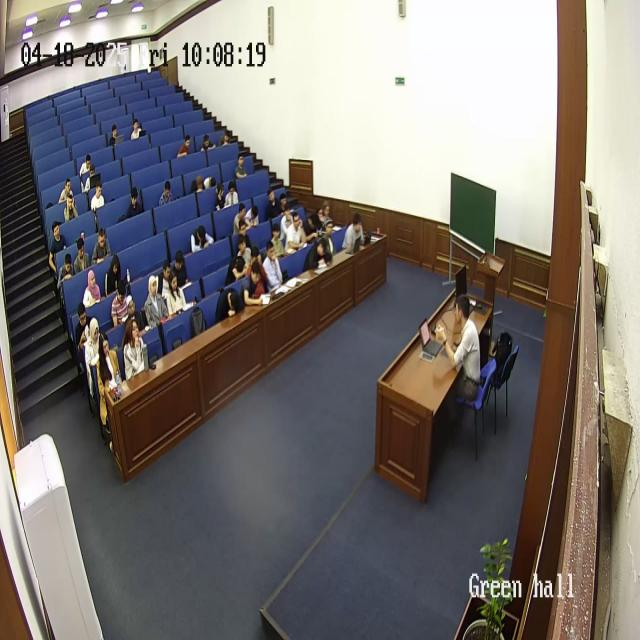person: (435, 294, 481, 408), (96, 333, 122, 435), (121, 314, 149, 380), (84, 316, 104, 398), (242, 258, 268, 308), (163, 267, 187, 318), (261, 239, 284, 290), (110, 284, 136, 329), (144, 275, 166, 328), (48, 220, 68, 276), (226, 238, 250, 284), (215, 284, 242, 324), (341, 212, 365, 254), (74, 301, 91, 360), (284, 212, 306, 254), (305, 236, 331, 271), (82, 268, 102, 312), (104, 254, 124, 297), (57, 252, 77, 294), (92, 227, 112, 265), (73, 237, 91, 276), (190, 222, 212, 252), (125, 184, 144, 218), (232, 202, 250, 236), (172, 248, 190, 281), (62, 191, 80, 223), (270, 221, 286, 257), (89, 178, 105, 212), (78, 153, 94, 187), (222, 179, 240, 209), (265, 187, 281, 220), (107, 120, 124, 147), (82, 158, 99, 185), (304, 206, 318, 238), (158, 180, 174, 206), (176, 134, 192, 158), (57, 179, 73, 202), (275, 189, 288, 217), (319, 199, 332, 226), (130, 118, 144, 140), (235, 154, 247, 178), (216, 183, 228, 206), (204, 169, 218, 188), (191, 170, 203, 192), (200, 134, 214, 150), (218, 131, 232, 145)
